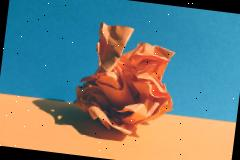paper: (70, 20, 182, 140), (92, 22, 134, 76)
